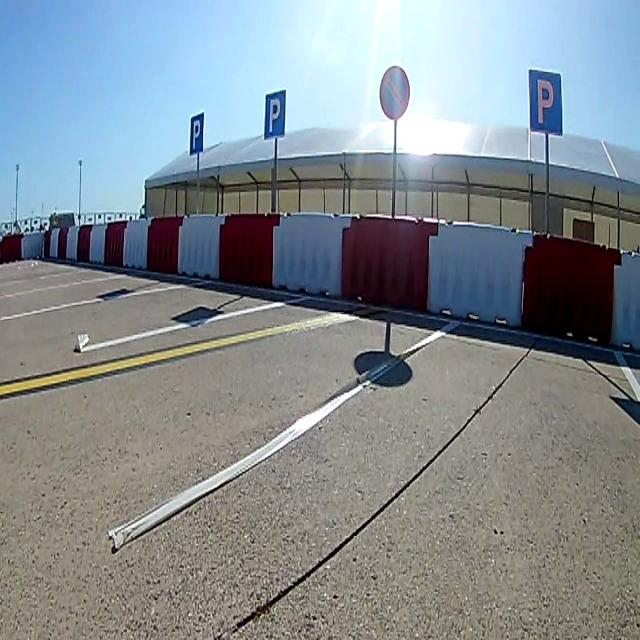park: (528, 67, 562, 136), (264, 90, 286, 140), (189, 114, 205, 153)
parkyasak: (380, 68, 410, 118)
